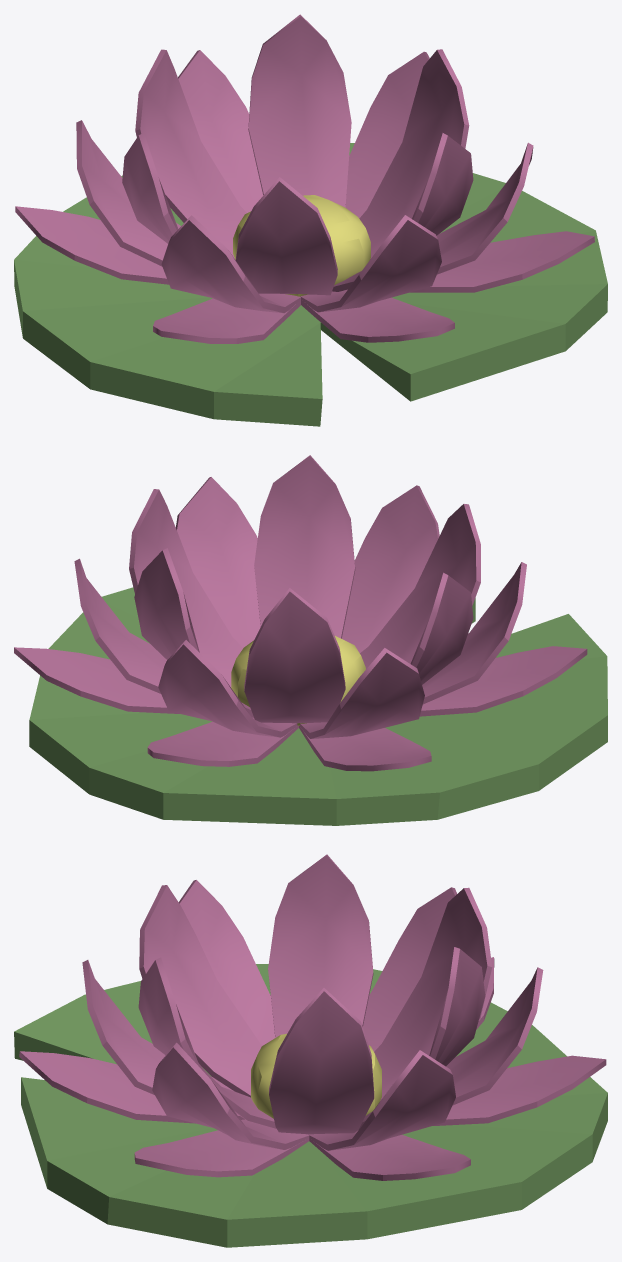
Rendered from Lotus.fbx.
The picture shows the model from 3 angles, top to bottom: view 1: azimuth 30°, elevation 25°; view 2: azimuth 150°, elevation 25°; view 3: azimuth 270°, elevation 25°; orthographic projection. The views are drawn at different scales.
Visible parts, largest first — view 1: pCube30; view 2: pCube30; view 3: pCube30.
Part boxes in pixels (box(x1,y1,x2,y2)): pCube30: box(14, 14, 607, 426); pCube30: box(14, 455, 607, 825); pCube30: box(14, 854, 607, 1247).
Size of the model in its own units: 104 by 39.61 by 102.
